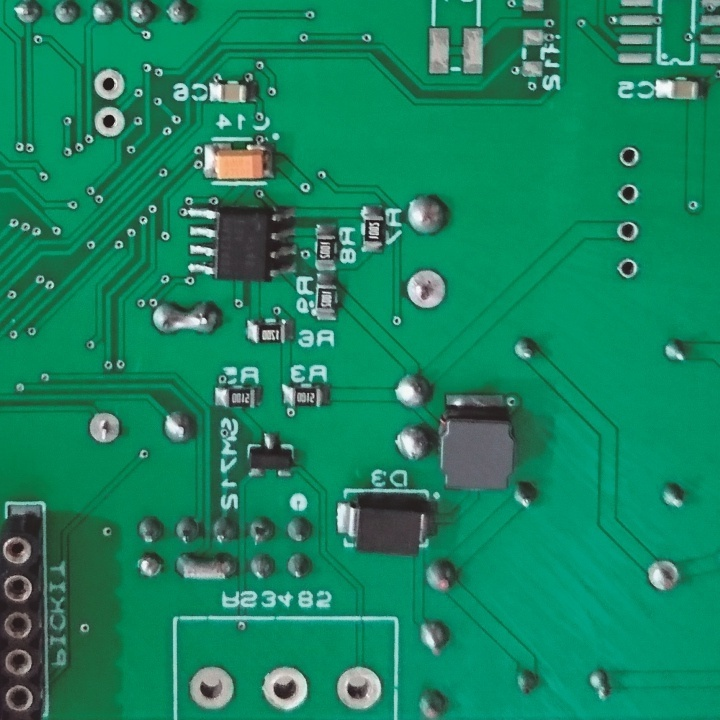F: (333, 663, 385, 713), (184, 664, 239, 710), (259, 665, 311, 712), (403, 266, 451, 314), (640, 556, 681, 597), (86, 408, 124, 445), (91, 64, 129, 100), (92, 106, 127, 142), (614, 143, 644, 170), (616, 179, 643, 208), (613, 257, 641, 283), (616, 217, 641, 245)
P: (147, 298, 221, 335), (172, 549, 238, 587)
